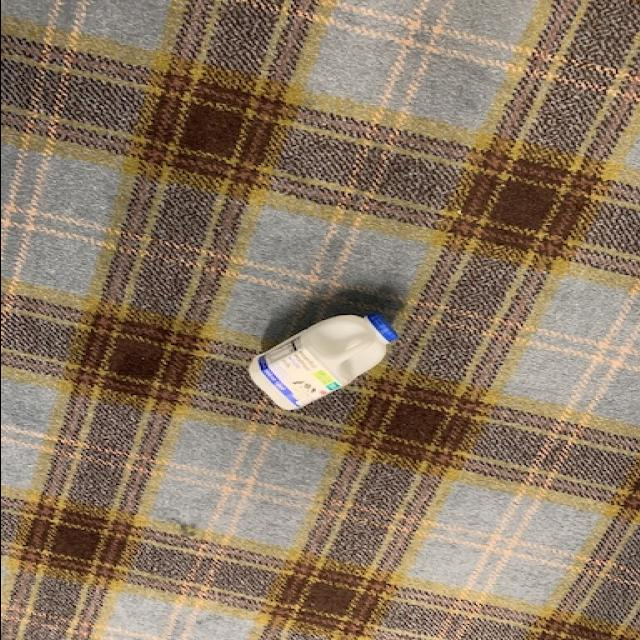litter: (245, 308, 395, 412)
